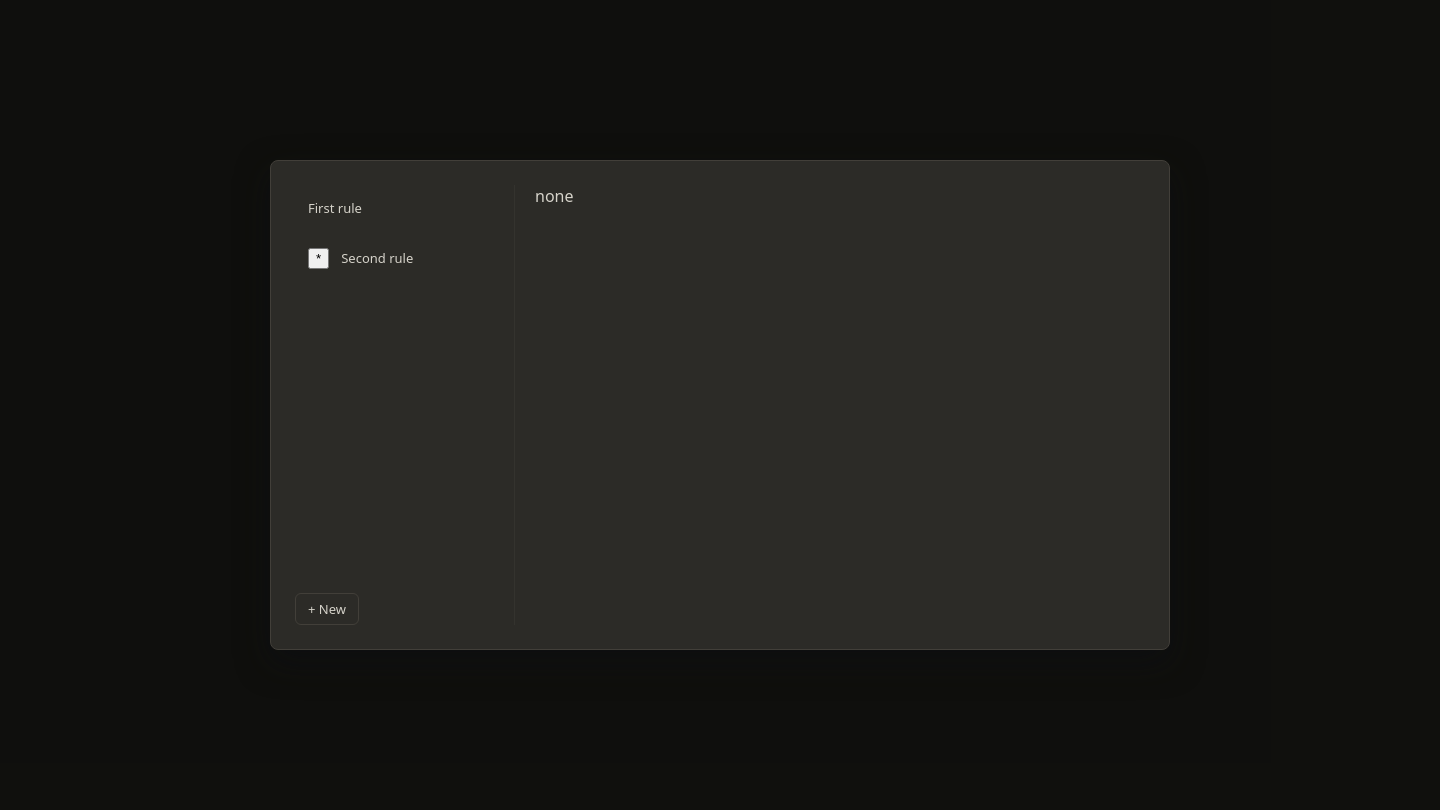
Test case: ManageDialog.New › returns to the New form (selection null)
The width and height of the screenshot is (1440, 810).
What coordinates should you click on to do the following:
click the button with test id "rule-select-a"
I would click on:
 (368, 208)
Its box is [296, 186, 441, 230].
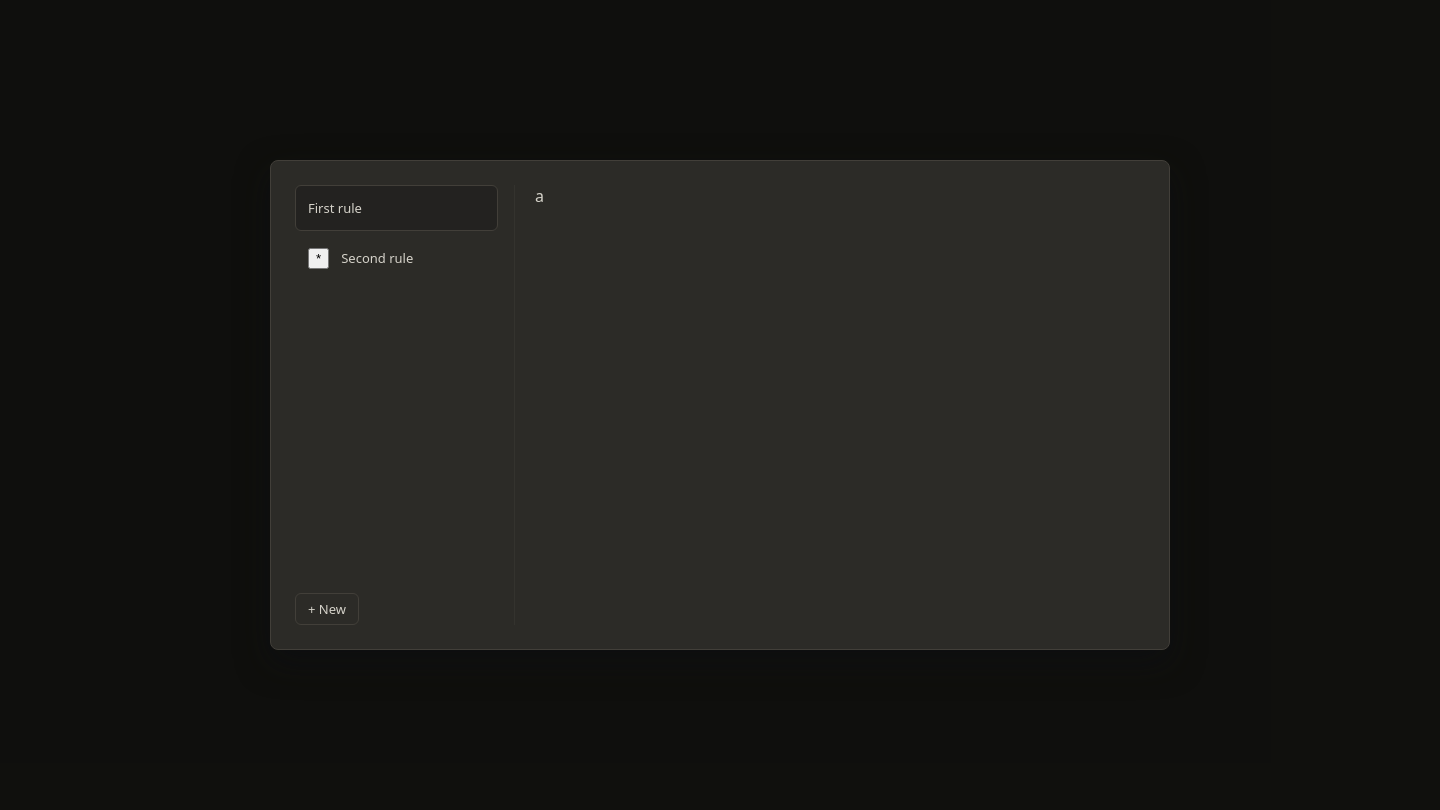
Now the text with test id "probe-selected" reads "a", box [535, 185, 544, 207]
What coordinates should you click on to do the following:
click the button with test id "rule-new"
I would click on:
 (327, 609)
Its box is [295, 593, 359, 625].
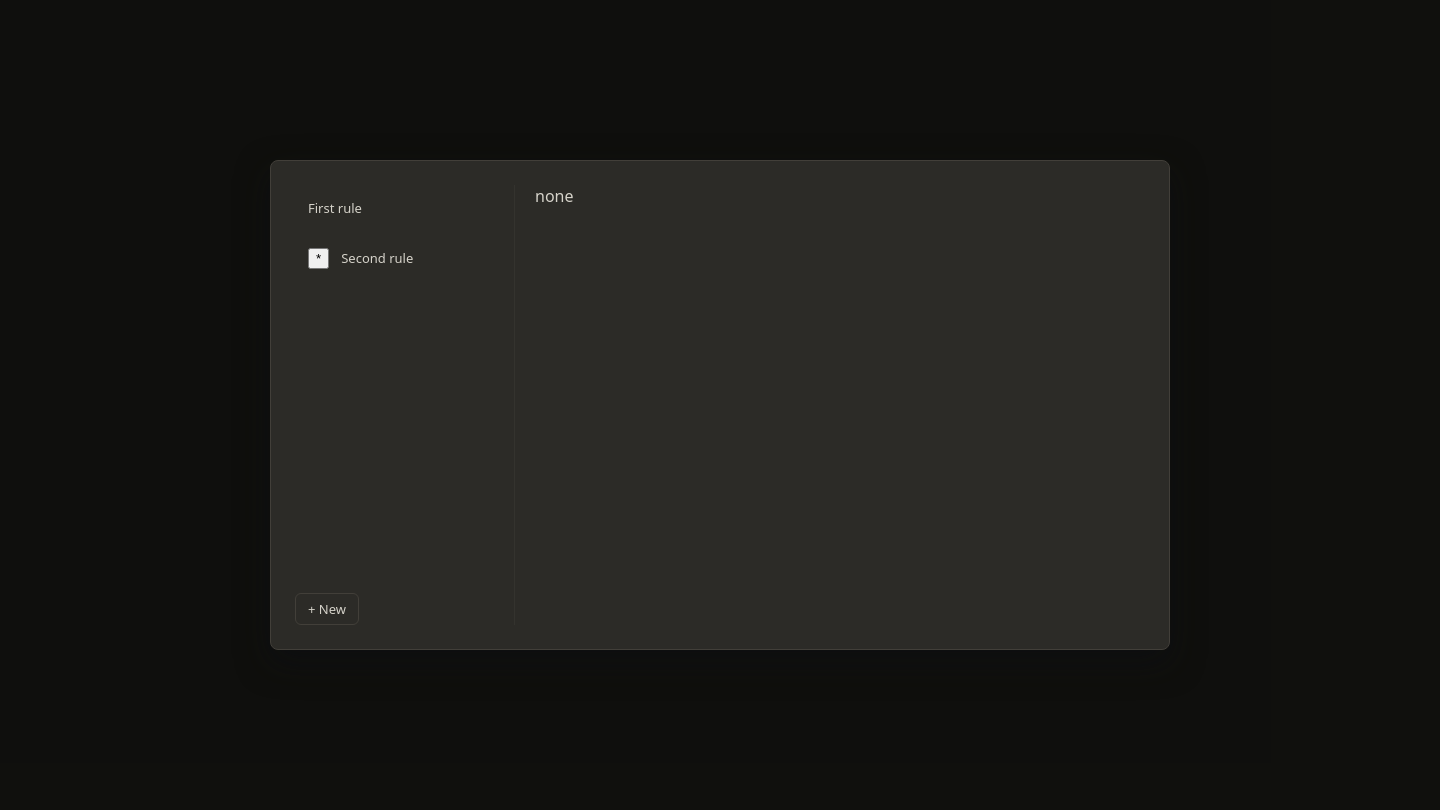
Now the text with test id "probe-selected" reads "none", box [535, 185, 574, 207]
